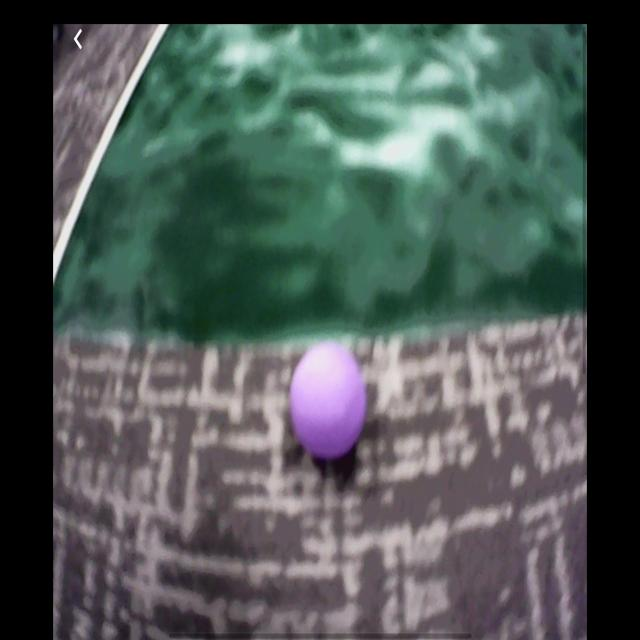ball: (292, 344, 366, 460)
